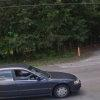Car: (2, 57, 80, 100)
